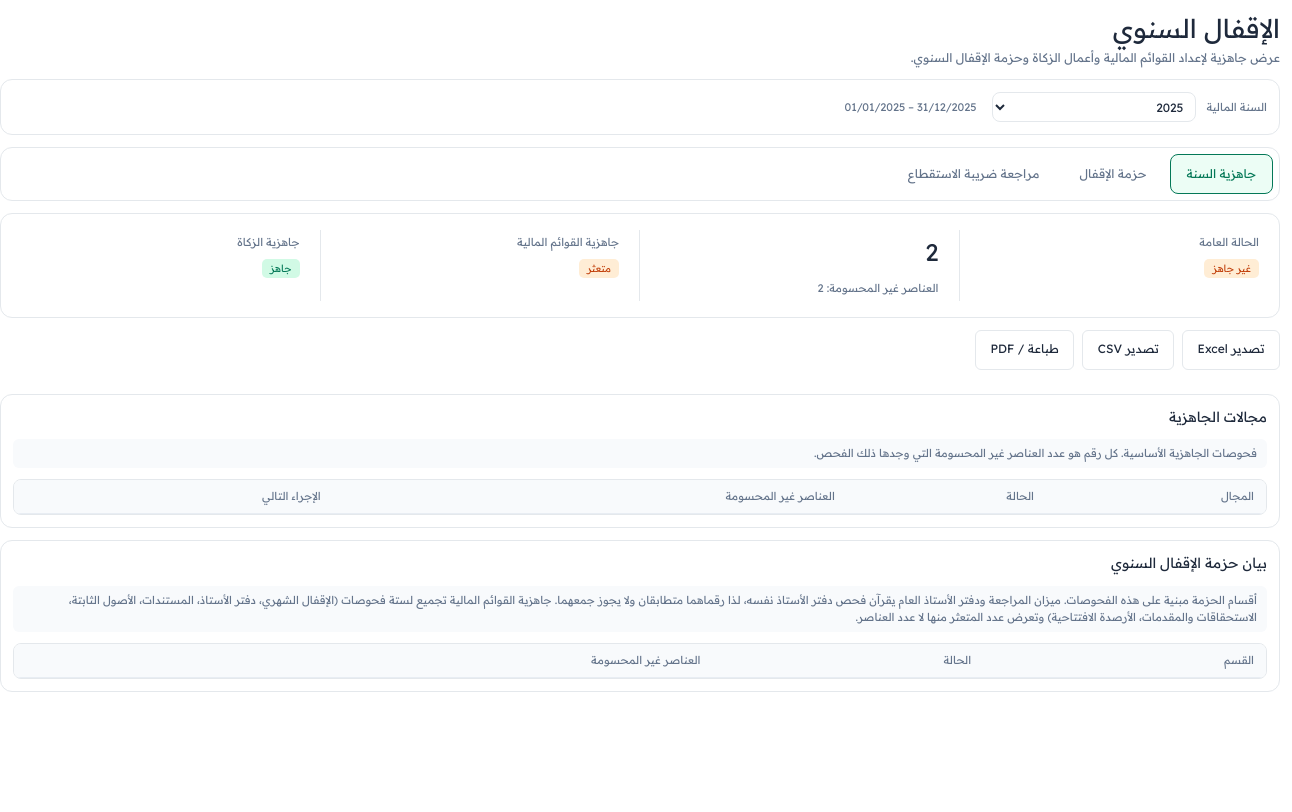
Scenario: Annual Closing Center › shows failed finalization blockers in a styled Arabic warning list
What coordinates should you click on to do the following:
click the tab "حزمة الإقفال"
I would click on:
 (1113, 174)
Its box is 1062,154 -> 1164,194.
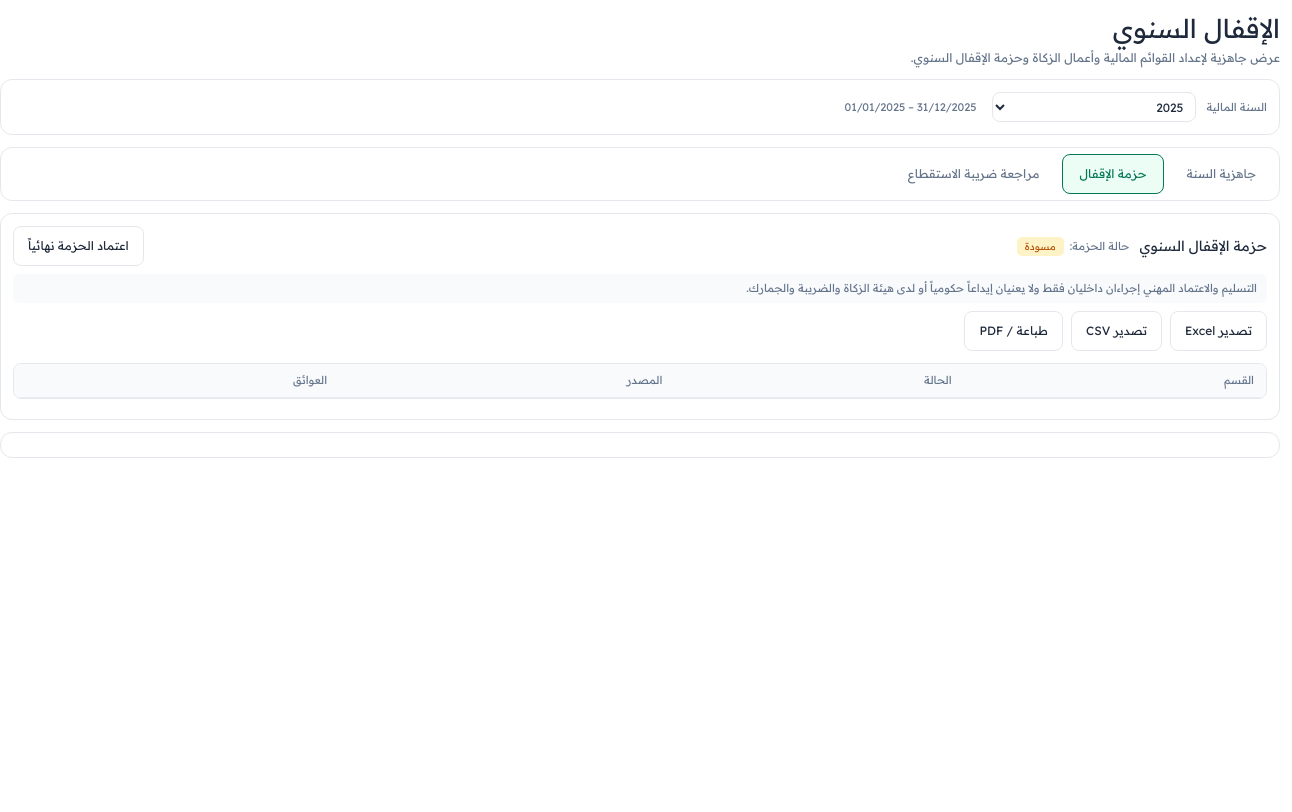
What coordinates should you click on to do the following:
click the button "اعتماد الحزمة نهائياً"
I would click on:
 (78, 246)
Its box is 13,226 -> 144,266.
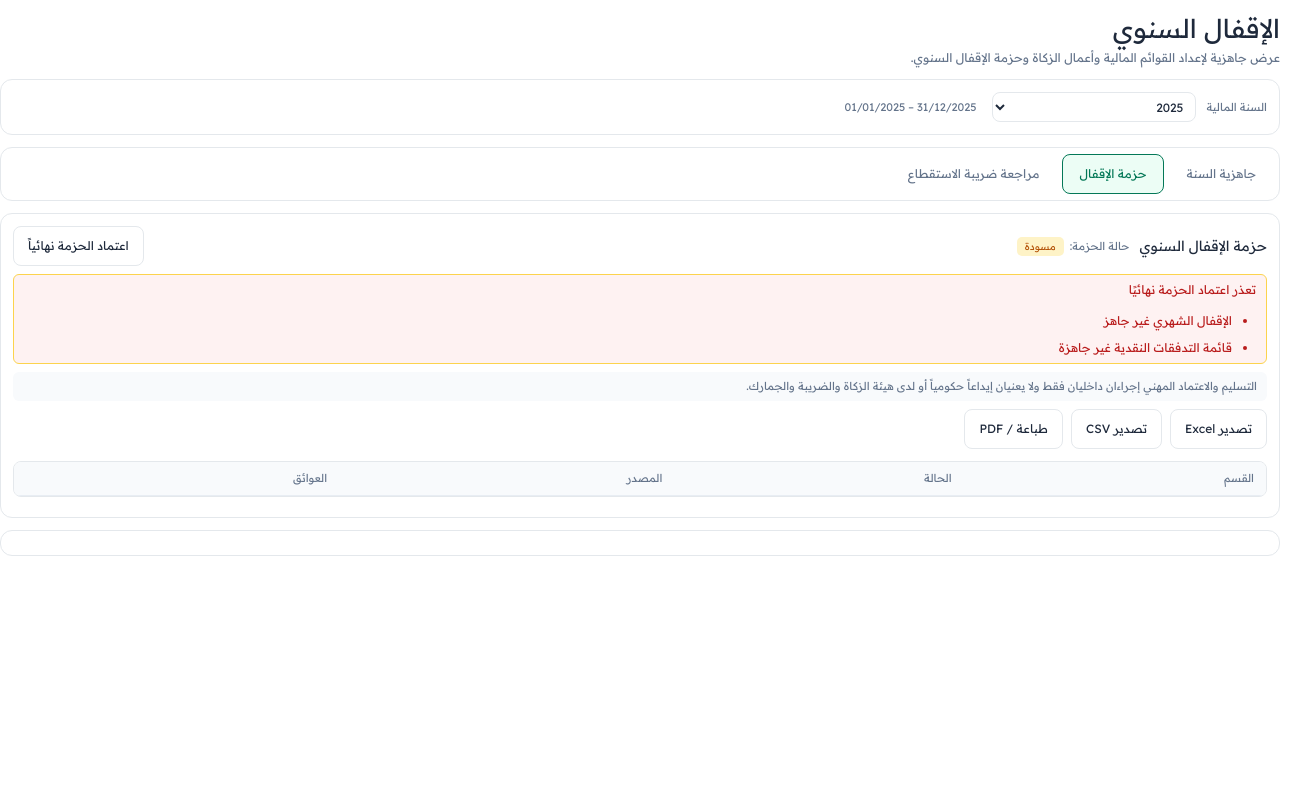
Expected: the text "تعذر اعتماد الحزمة نهائيًا" is shown, 1129,282 -> 1256,297
Expected: the number of list items is 2, 1104,313 -> 1232,328; 1059,340 -> 1232,355
Expected: the list item "الإقفال الشهري غير جاهز" is shown, 1104,313 -> 1232,328
